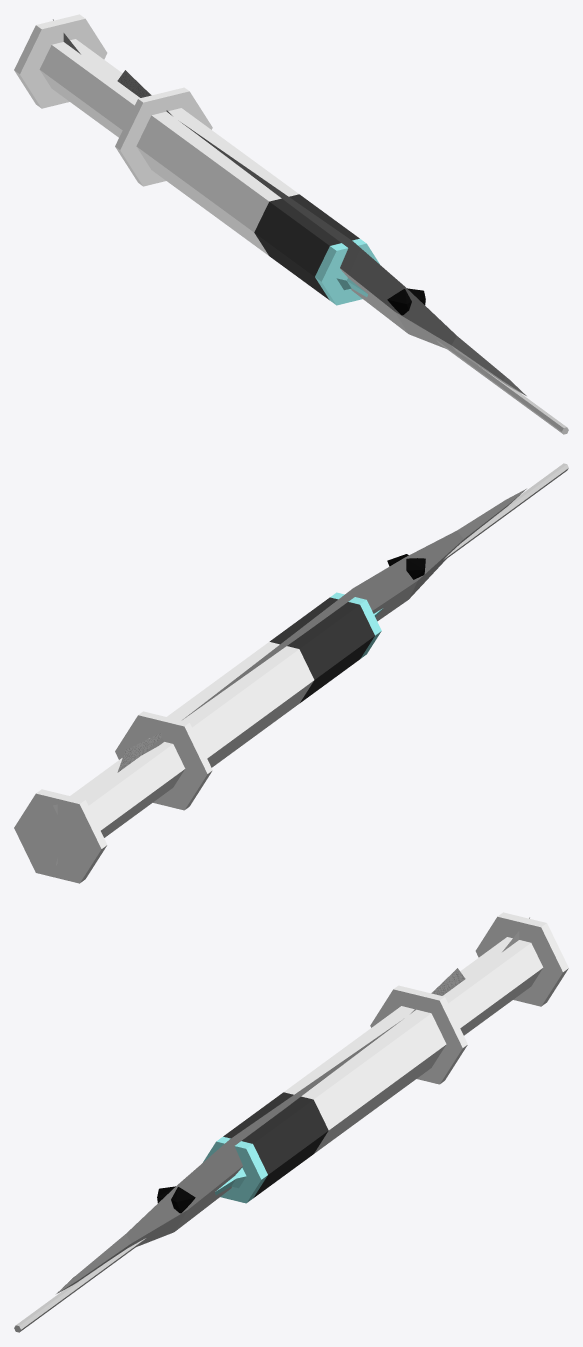
Rendered from Resources__items__creatures__Needlefish.glb.
3 views of the same model, one above another, from view 1: azimuth 30°, elevation 25°; view 2: azimuth 150°, elevation 25°; view 3: azimuth 330°, elevation 25° (orthographic).
Parts seen in each view (by area): view 1: NeedlefishDrip, Needlefish; view 2: NeedlefishDrip, Needlefish; view 3: NeedlefishDrip, Needlefish.
Part boxes in pixels (left/top/right/bottom): NeedlefishDrip: left=14, top=14, right=568, bottom=434; Needlefish: left=53, top=19, right=526, bottom=395; NeedlefishDrip: left=14, top=463, right=568, bottom=883; Needlefish: left=53, top=488, right=526, bottom=865; NeedlefishDrip: left=14, top=912, right=568, bottom=1332; Needlefish: left=56, top=917, right=529, bottom=1293.
Size of the model in its own units: 0.0461 by 0.04 by 0.4422.
1 material, 1 textured.
